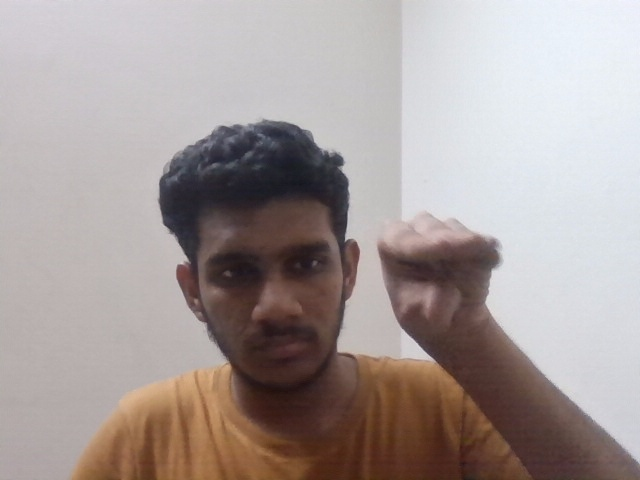no: (358, 203, 532, 334)
